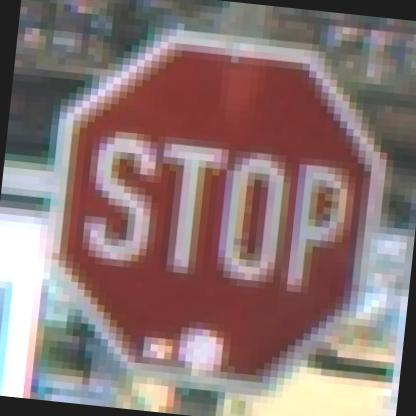stop: (15, 29, 408, 411)
